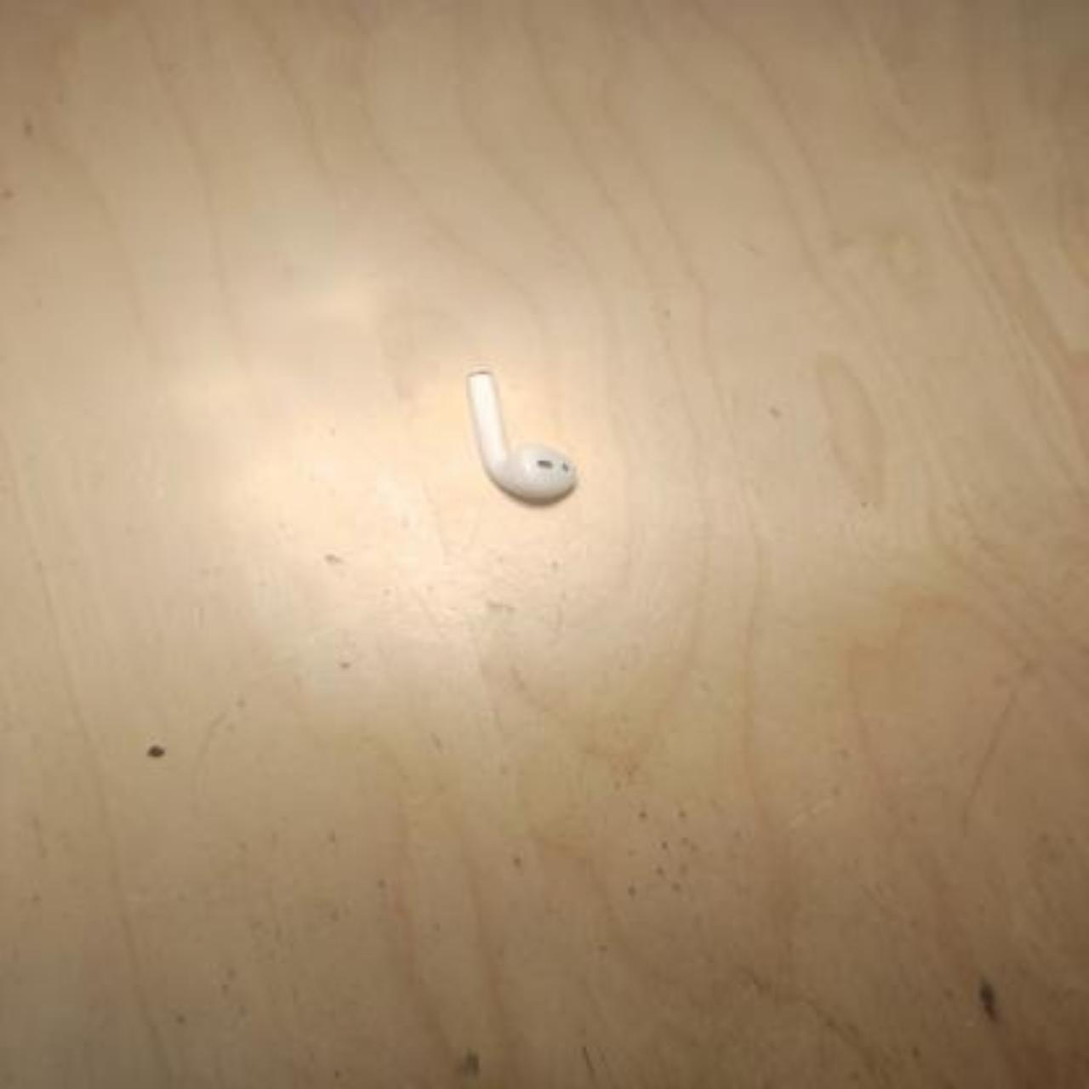Airpods_Units: (462, 368, 584, 504)
